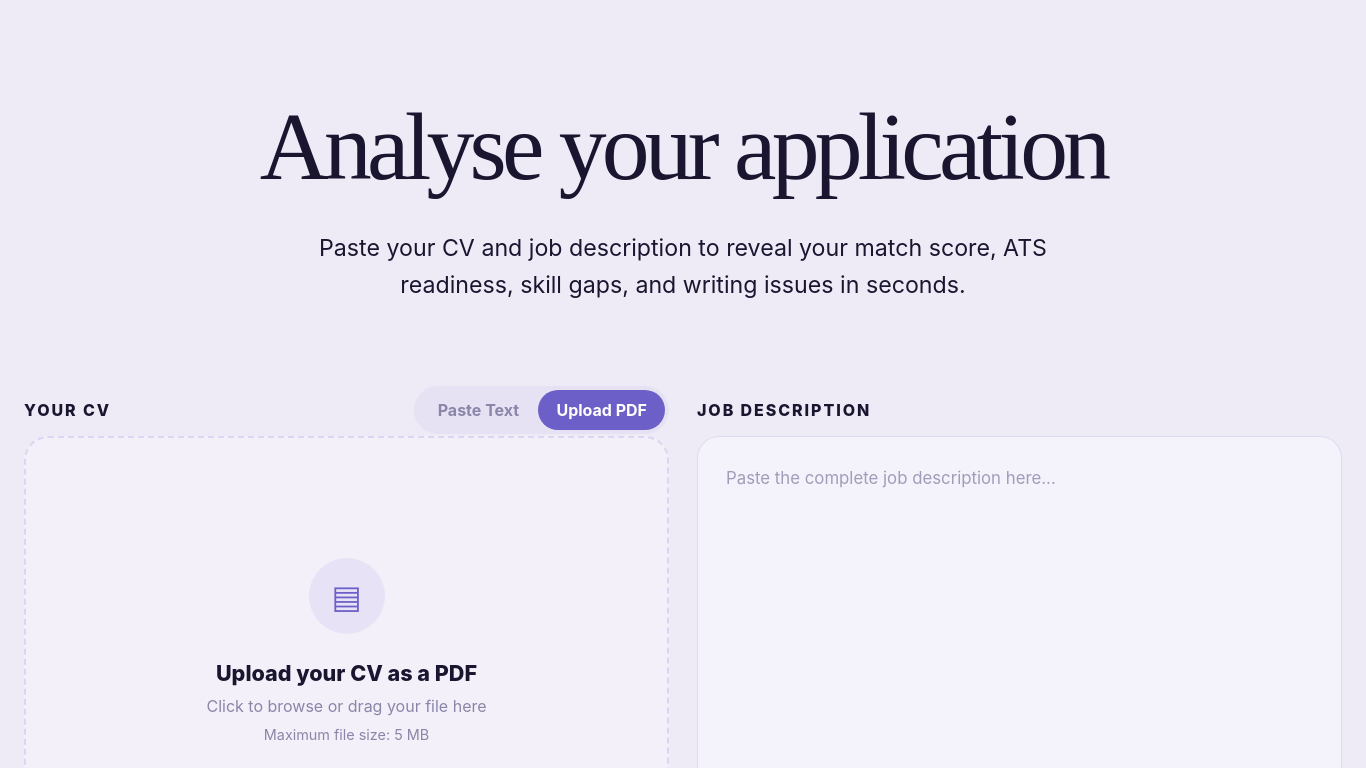
Test case: App › switches from PDF upload to CV text input
Check: the text "Upload your CV as a PDF" is shown, box [216, 660, 477, 686]
Click the button "Paste Text" at (478, 410), box [418, 390, 538, 430]
(page scrolled)
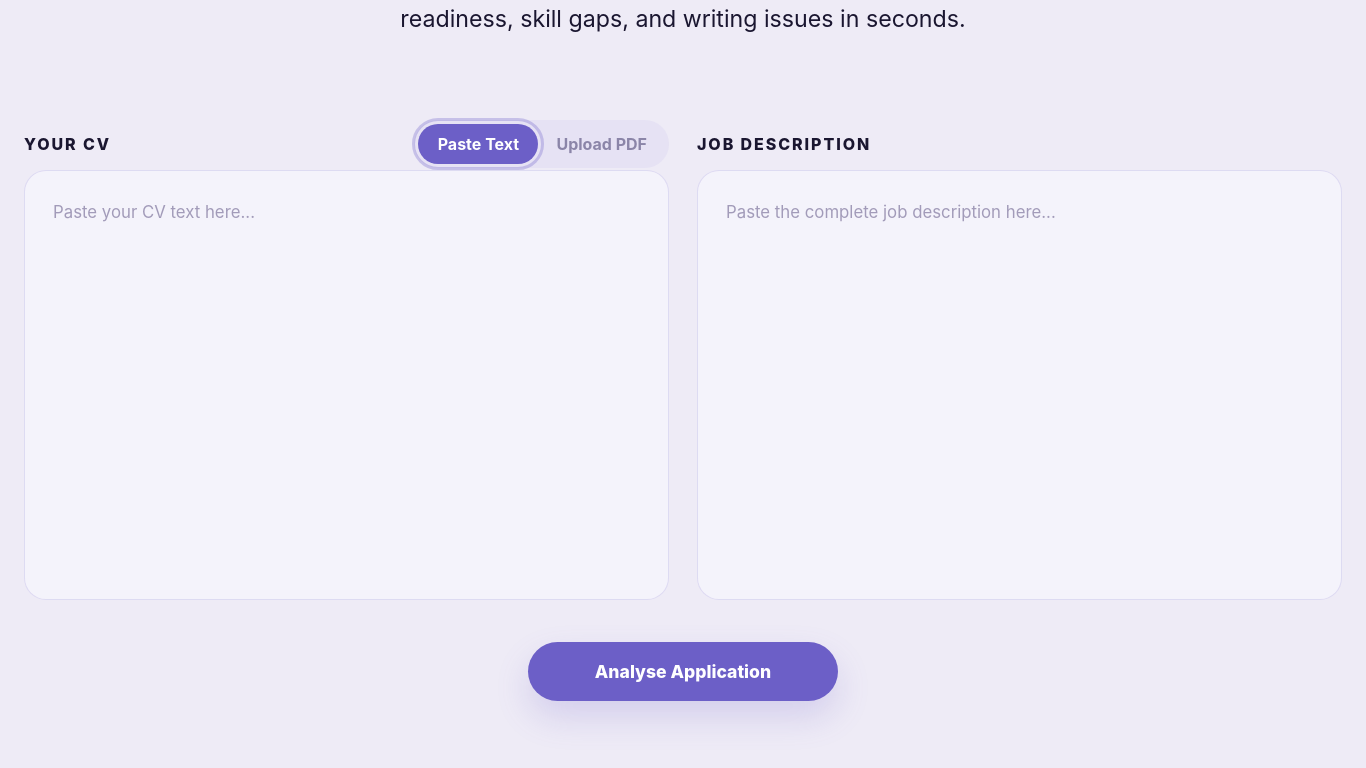
Check: the text box labelled "Paste your CV text here..." is shown, box [24, 170, 669, 600]
Check: the button "Upload your CV as a PDF" is gone
